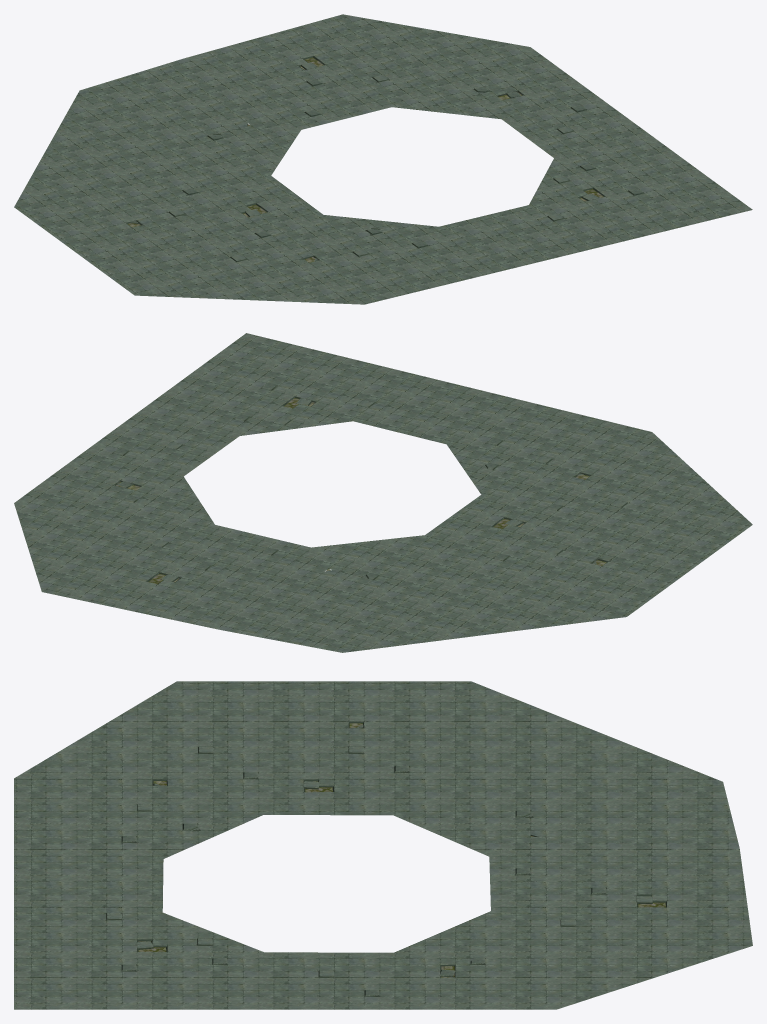
File: zc_erhai_dimian01.FBX
3 views of the same model, one above another, from view 1: azimuth 30°, elevation 25°; view 2: azimuth 150°, elevation 25°; view 3: azimuth 270°, elevation 25° (orthographic). The views are drawn at different scales.
Parts seen in each view (by area): view 1: zc_erhai_dimian01; view 2: zc_erhai_dimian01; view 3: zc_erhai_dimian01.
Part boxes in pixels (<box>): zc_erhai_dimian01: <box>14,14,752,304</box>; zc_erhai_dimian01: <box>14,333,752,652</box>; zc_erhai_dimian01: <box>14,681,752,1009</box>.
Bounding box in the file's own units: 3896 × 13.64 × 3706.
